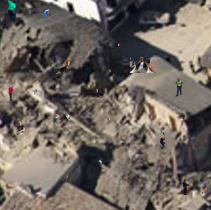Human: (130, 56, 161, 73), (8, 85, 40, 101), (182, 179, 207, 195), (54, 58, 70, 75), (7, 0, 17, 23), (69, 180, 92, 189), (53, 114, 71, 123), (156, 137, 168, 150), (175, 78, 183, 97), (16, 121, 25, 135), (91, 89, 103, 99), (27, 69, 34, 79), (44, 9, 51, 18), (97, 157, 103, 167), (159, 128, 165, 136), (181, 113, 185, 120), (44, 133, 46, 140), (66, 175, 68, 181), (84, 150, 87, 154), (118, 43, 120, 48), (74, 11, 76, 16), (109, 69, 111, 74), (107, 118, 110, 121)
